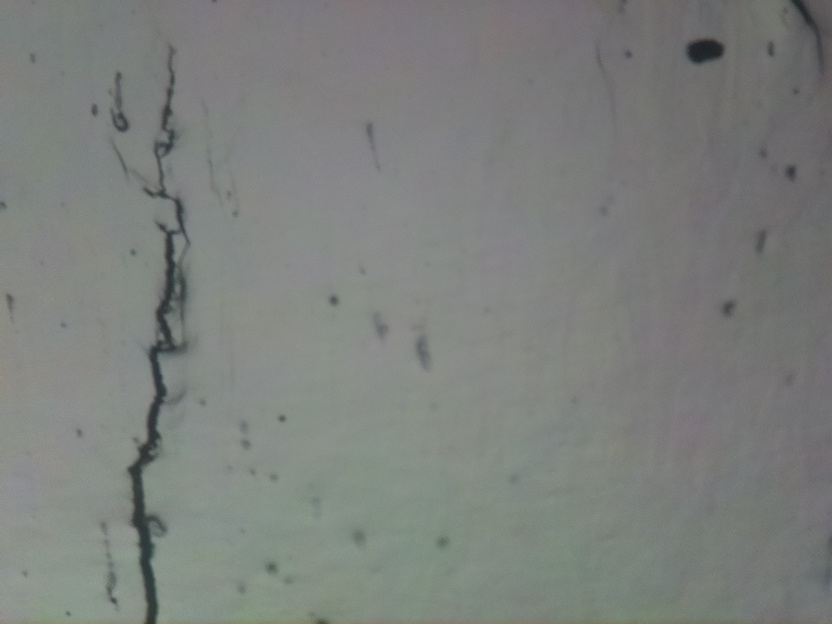crack: (126, 41, 188, 624), (786, 0, 823, 68)
